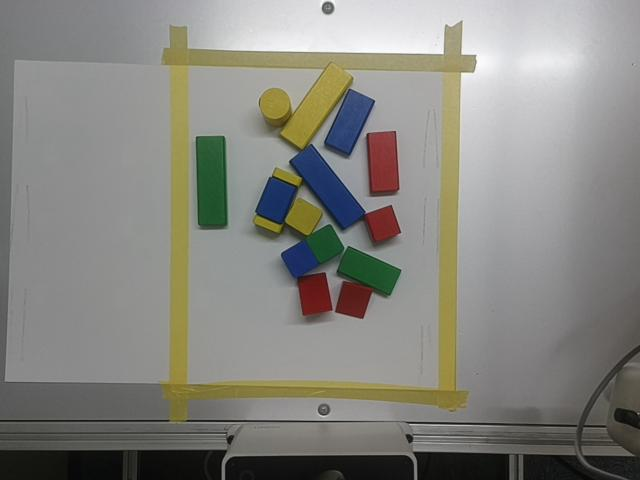blue_cube: (281, 241, 319, 277)
blue_longrect: (291, 144, 365, 228)
blue_rect: (324, 89, 374, 156)
cylinder: (259, 88, 291, 126)
green_cube: (306, 224, 343, 263)
green_longrect: (197, 135, 227, 226)
green_rect: (337, 247, 400, 295)
half_cylinder: (256, 176, 297, 224)
red_cube: (363, 207, 399, 244)
red_rect: (367, 131, 399, 192)
triangle: (298, 273, 332, 315), (336, 281, 372, 318)
yellow_cube: (286, 198, 322, 235)
yellow_longrect: (280, 63, 352, 149)
